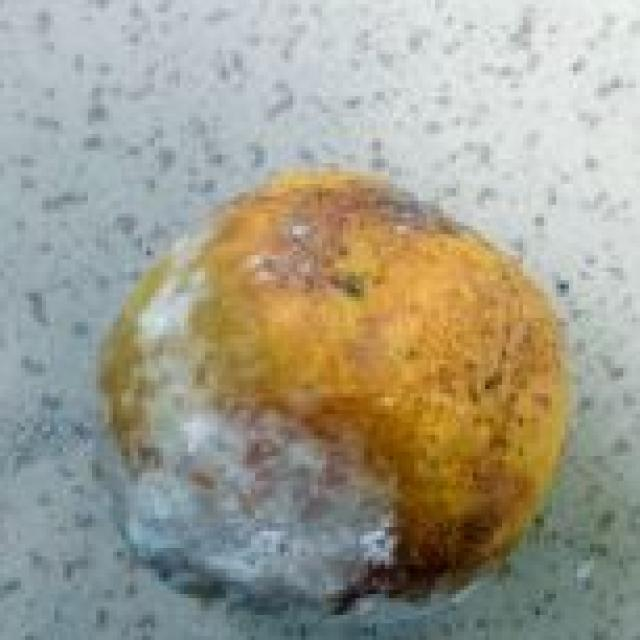Bad_Lime-0-1-day: (92, 167, 577, 619)
